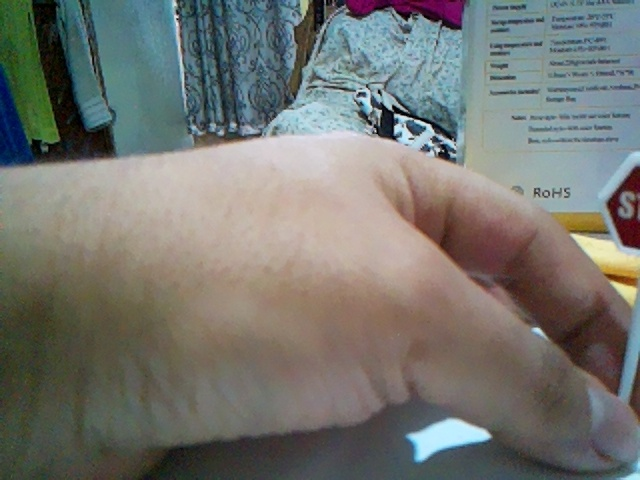stop_sign: (599, 151, 639, 254)
